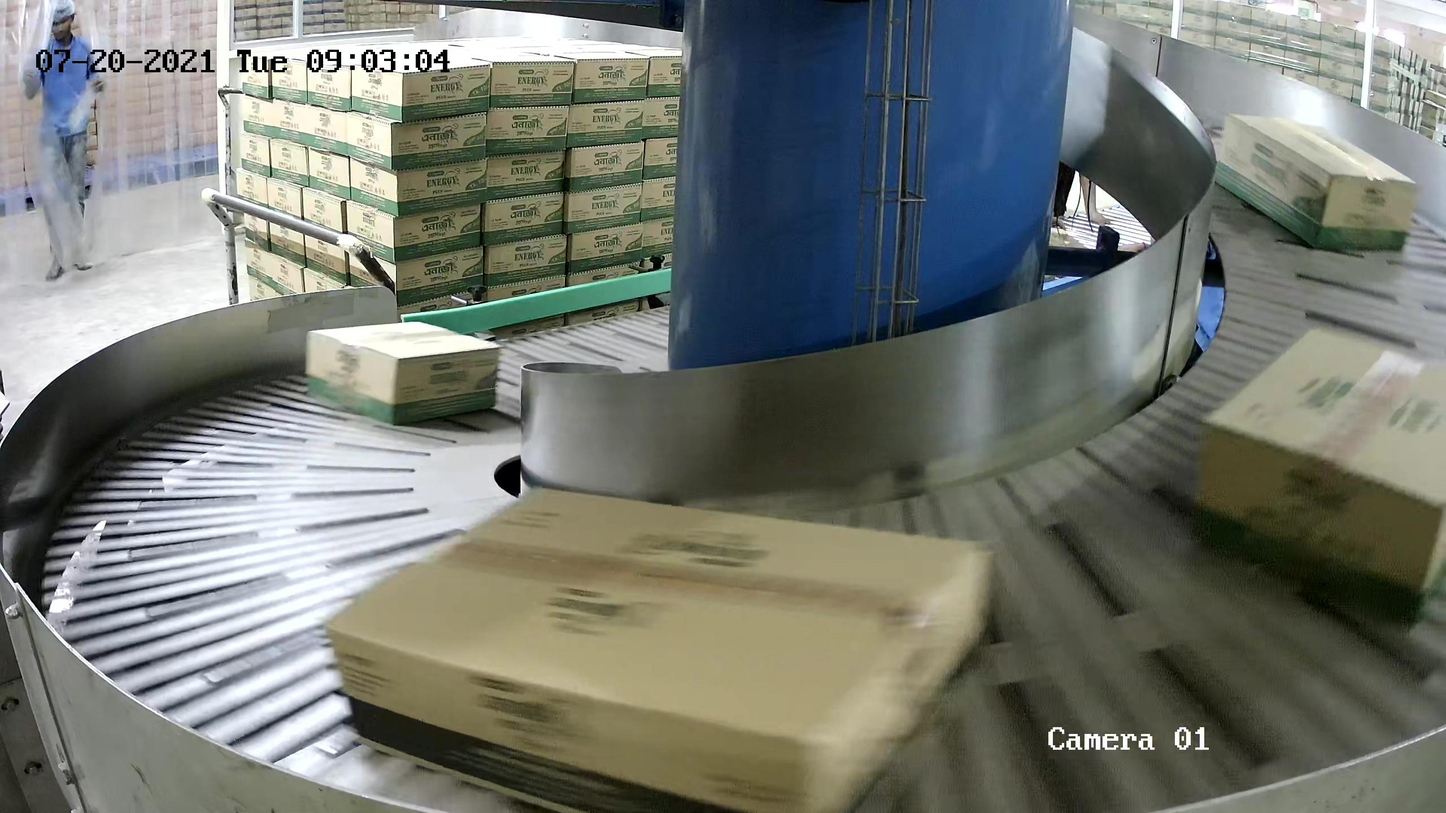Box: (323, 481, 997, 813), (1193, 316, 1446, 640), (1212, 111, 1420, 255), (303, 320, 500, 426)
